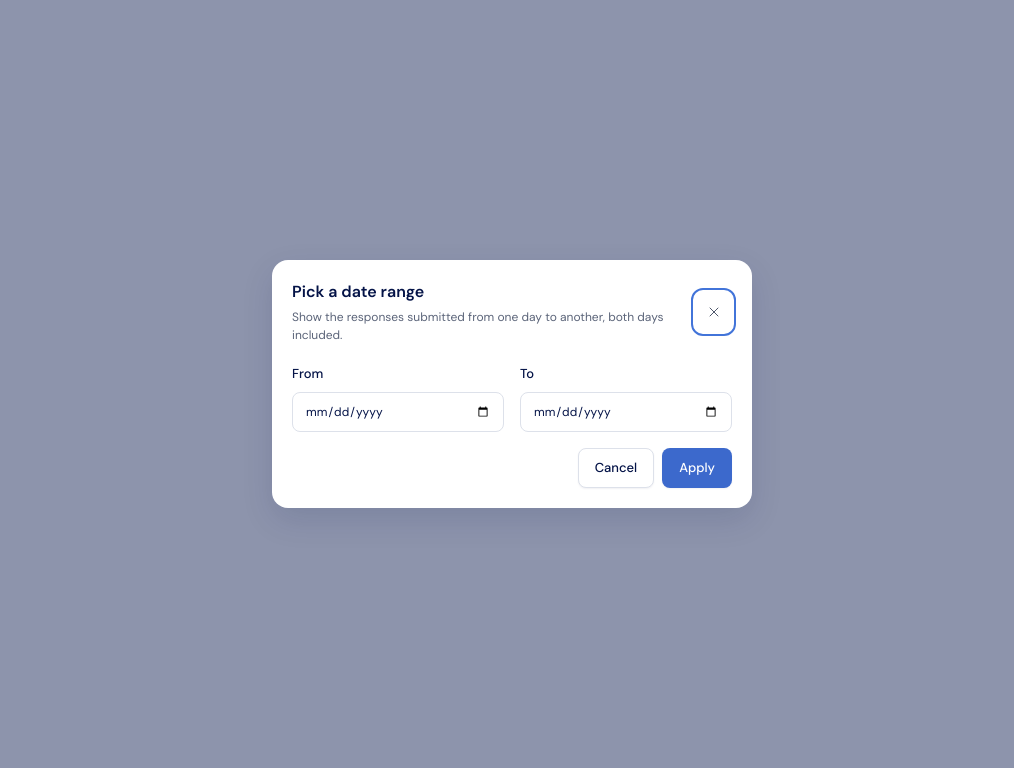
CustomRangeModal › asks for both dates
This screenshot has width=1024, height=768.
Type "2026-10-01" into the date field labelled "From" at (398, 412), box x1=292 y1=392 x2=504 y2=432
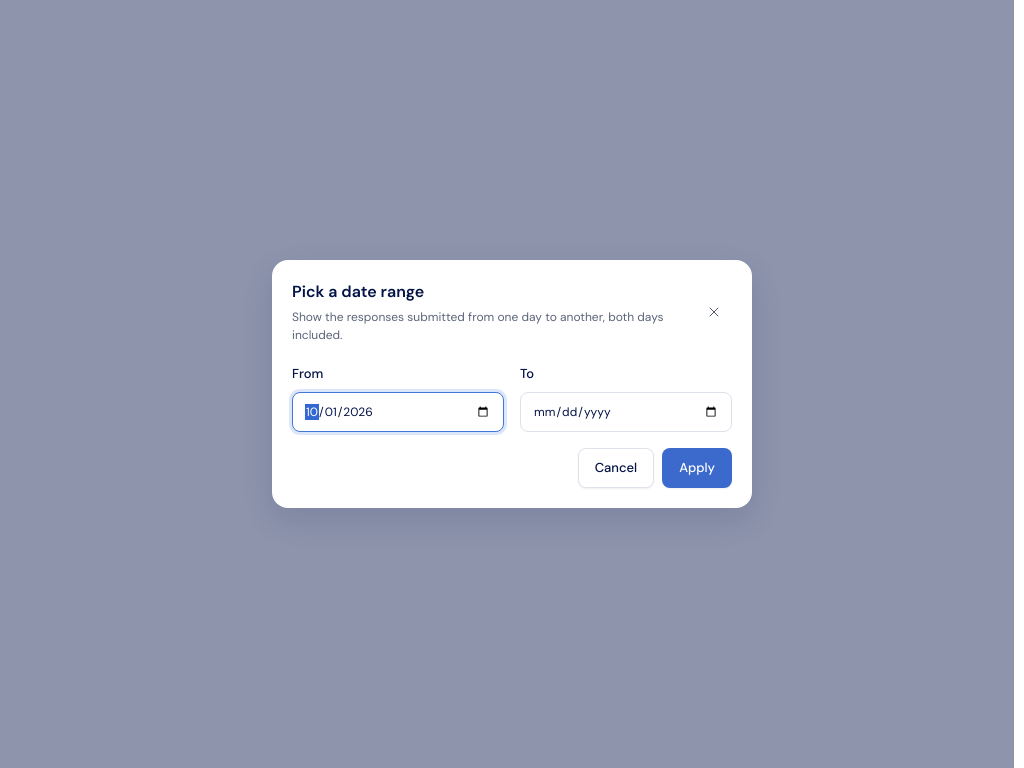
Click the button "Apply" at (697, 468), box x1=662 y1=448 x2=732 y2=488
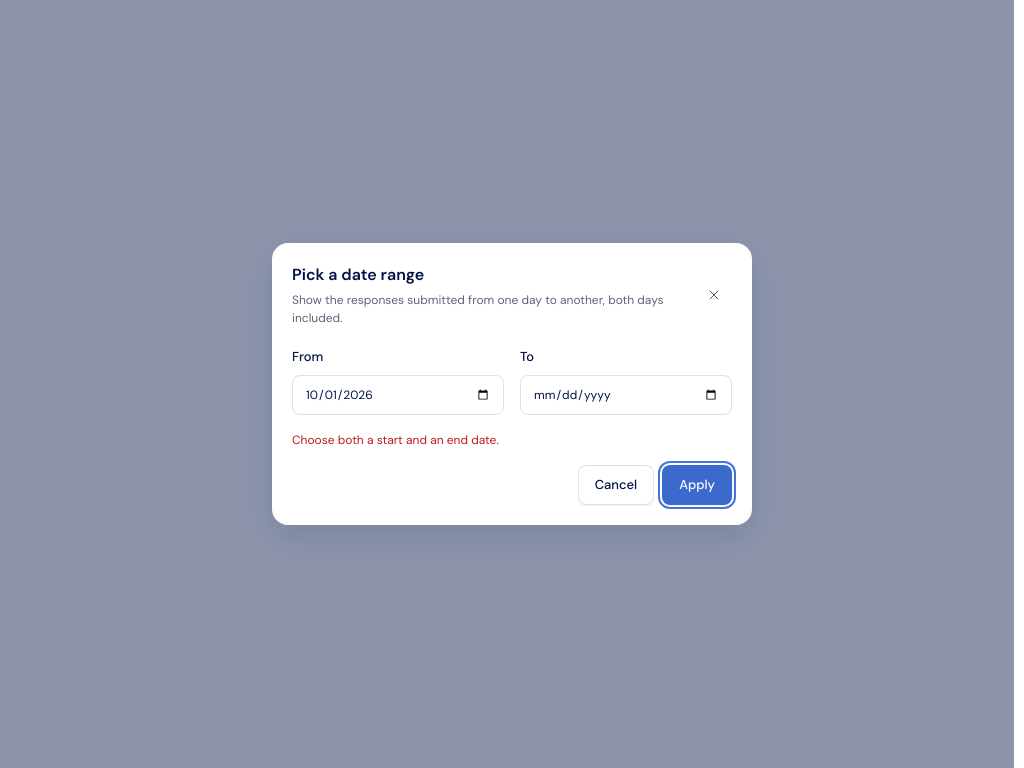
Check: the message reads "Choose both a start and an end date.", box x1=292 y1=432 x2=499 y2=448
